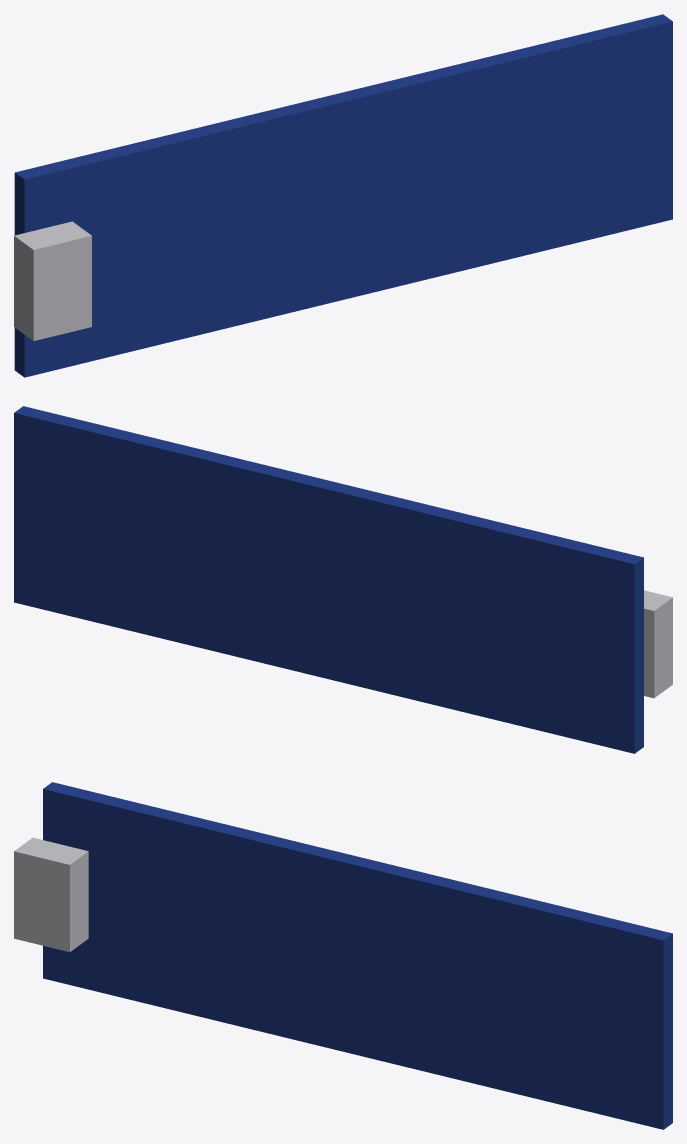
The model's file is mod-teensy41.glb.
3 views of the same model, one above another, from view 1: azimuth 30°, elevation 25°; view 2: azimuth 150°, elevation 25°; view 3: azimuth 330°, elevation 25° (orthographic). The views are drawn at different scales.
Visible parts, largest first — view 1: PCB-MCU, MET-PORT; view 2: PCB-MCU, MET-PORT; view 3: PCB-MCU, MET-PORT.
Boxes of the visible parts, x1,y1,x2,y2 form: PCB-MCU: (14,14,672,377); MET-PORT: (14,221,91,341); PCB-MCU: (14,406,643,753); MET-PORT: (644,590,672,698); PCB-MCU: (43,782,672,1129); MET-PORT: (14,837,88,952).
Size of the model in its own units: 62 by 17.8 by 4.8.
